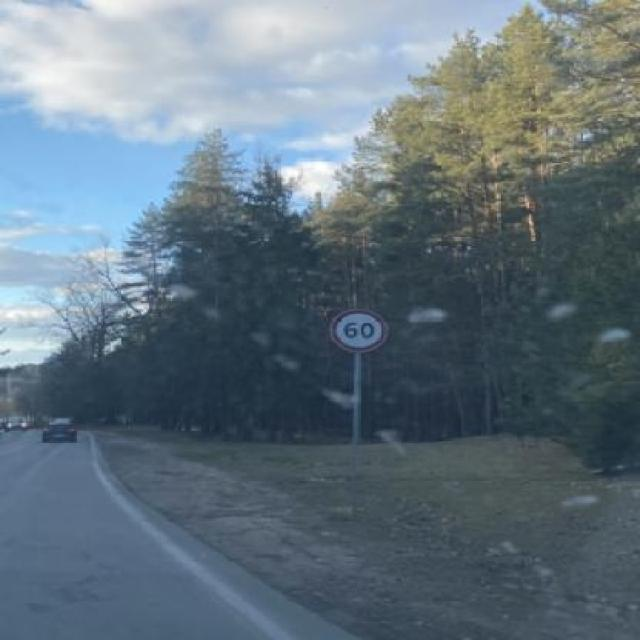forb_speed_over_60: (332, 311, 386, 352)
